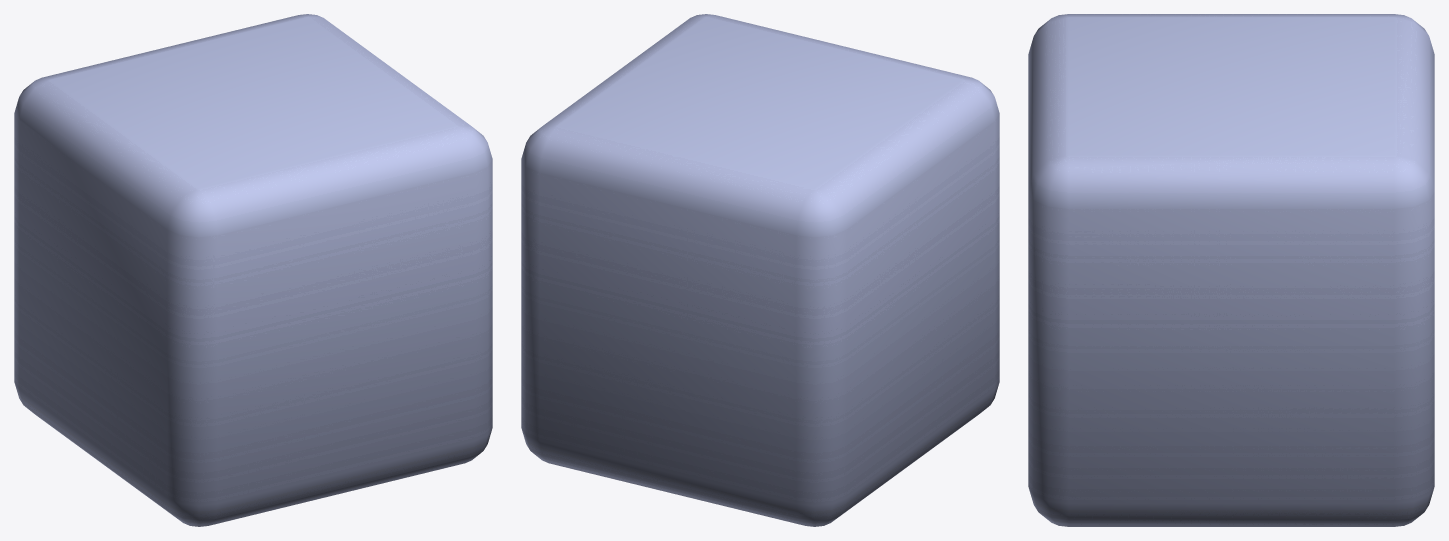
File: shape-cube-rounded.glb
The picture shows the model from 3 angles, left to right: view 1: azimuth 30°, elevation 25°; view 2: azimuth 150°, elevation 25°; view 3: azimuth 270°, elevation 25°; orthographic projection. The views are drawn at different scales.
Visible parts, largest first — view 1: shape-cube-rounded-col; view 2: shape-cube-rounded-col; view 3: shape-cube-rounded-col.
Boxes of the visible parts, box(x1,y1,x2,y2) form: shape-cube-rounded-col: box(14, 14, 492, 526); shape-cube-rounded-col: box(521, 14, 999, 526); shape-cube-rounded-col: box(1028, 14, 1434, 526).
Bounding box in the file's own units: 1 × 1 × 1.
Materials: 1 (1 with a texture image).
